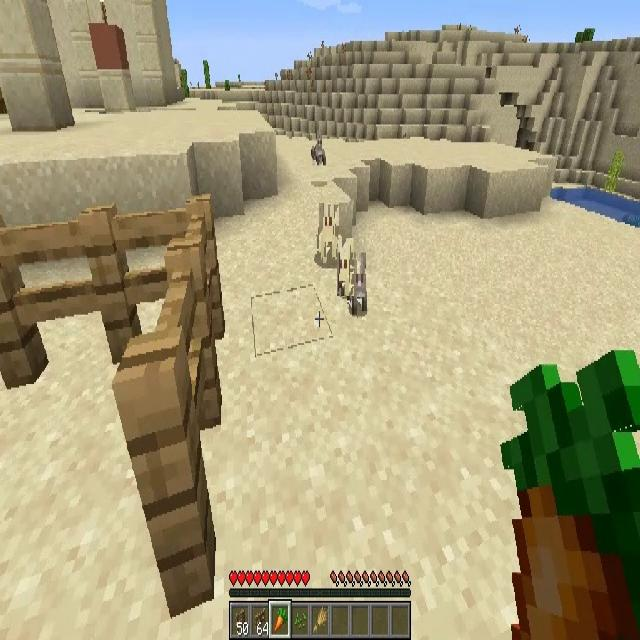rabbit: (344, 248, 366, 310), (320, 203, 340, 257), (337, 238, 354, 296), (312, 134, 326, 165)
